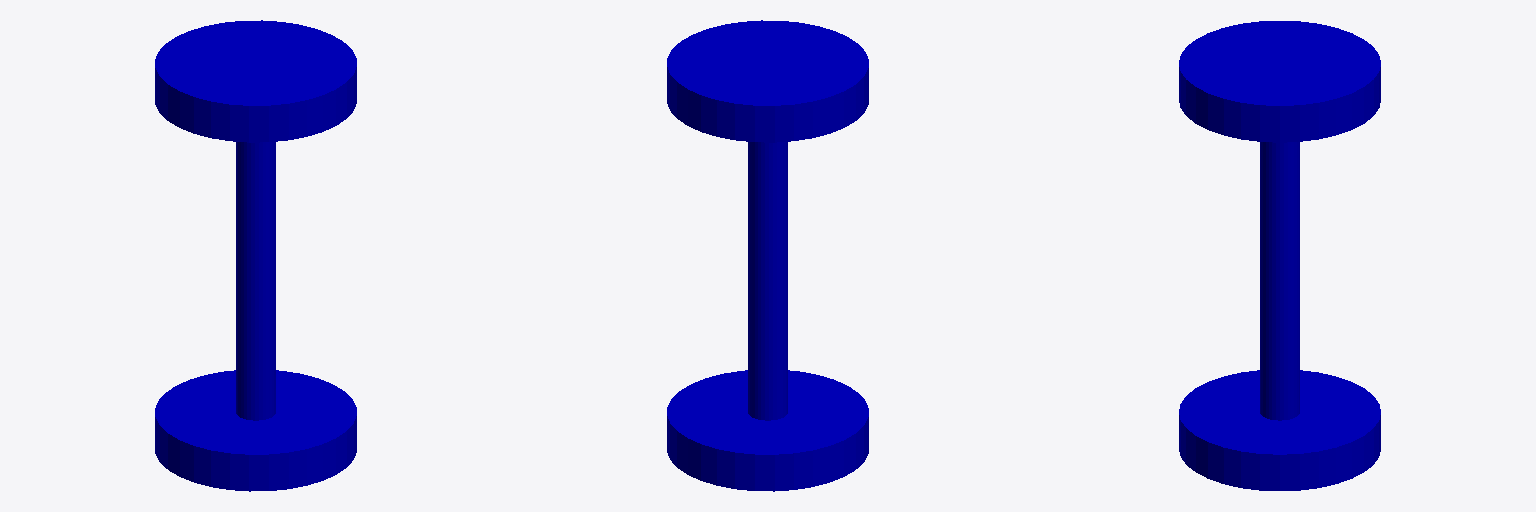
robot.urdf — physics:
<?xml version="1.0"?>
<robot name="physics">
  <link name="base_link">
    <visual>
      <geometry>
        <cylinder length="0.02" radius="0.05"/>
      </geometry>
      <material name="blue">
        <color rgba="0 0 .8 1"/>
      </material>
    </visual>
    <collision>
      <geometry>
        <cylinder length="0.02" radius="0.05"/>
      </geometry>
    </collision>
    <inertial>
      <mass value="0.01"/>
      <inertia ixx="0.000002" ixy="0.0" ixz="0.0" iyy="0.000002" iyz="0.0" izz="0.000002"/>
    </inertial>
  </link>

  <link name="grasp_cylinder">
    <visual>
      <geometry>
        <cylinder length="0.18" radius="0.01"/>
      </geometry>
      <material name="blue">
        <color rgba="0 0 .8 1"/>
      </material>
    </visual>
    <collision>
      <geometry>
        <cylinder length="0.12" radius="0.01"/>
      </geometry>
    </collision>
    <inertial>
      <mass value="0.01"/>
      <inertia ixx="0.000002" ixy="0.0" ixz="0.0" iyy="0.000002" iyz="0.0" izz="0.000002"/>
    </inertial>
  </link>

  <joint name="jfixed1" type="fixed">
    <parent link="base_link"/>
    <child link="grasp_cylinder"/>
    <origin xyz="0 0 0.09"/>
  </joint>


  <link name="top_cylinder">
    <visual>
      <geometry>
        <cylinder length="0.02" radius="0.05"/>
      </geometry>
      <material name="blue">
        <color rgba="0 0 .8 1"/>
      </material>
    </visual>
    <collision>
      <geometry>
        <cylinder length="0.02" radius="0.05"/>
      </geometry>
    </collision>
    <inertial>
      <mass value="0.01"/>
      <inertia ixx="0.000002" ixy="0.0" ixz="0.0" iyy="0.000002" iyz="0.0" izz="0.000002"/>
    </inertial>
  </link>

  <joint name="jfixed2" type="fixed">
    <parent link="grasp_cylinder"/>
    <child link="top_cylinder"/>
    <origin xyz="0 0 0.1"/>
  </joint>

  <link name="duck_stuff">
    <contact>
      <lateral_friction value="1.0"/>
      <rolling_friction value="0.0"/>
      <contact_cfm value="0.0"/>
      <contact_erp value="1.0"/>
    </contact>
    <inertial>
      <origin rpy="1.57 0 0" xyz="0.0 0.02 0.0"/>
       <mass value=".001"/>
       <inertia ixx="1e-9" ixy="0" ixz="0" iyy="1e-9" iyz="0" izz="1e-9"/>
    </inertial>
    <visual>
      <origin rpy="0 0 0" xyz="0 0 0"/>
      <geometry>
        <mesh filename="obj/Corona/Corona.obj" scale=".008 .008 .008"/>
      </geometry>
       <material name="yellow">
        <color rgba="1 1 0.14 1"/>
      </material>
    </visual>
    <collision>
      <origin rpy="1.57 0 0" xyz="0 0.02 0"/>
      <geometry>
	 	<mesh filename="obj/Corona/Corona.obj" scale=".00008 .00008 .00008"/>
      </geometry>
    </collision>
  </link>

    <joint name="jfixed_stuff" type="fixed">
    <parent link="top_cylinder"/>
    <child link="duck_stuff"/>
    <origin rpy="0 0 0" xyz="0 0 0"/>
  </joint>


</robot>

--- What the picture shows (computed from the rendered views, not written in the file) ---
Views: 3 orthographic renders of the robot side by side, from view 1: azimuth 30°, elevation 25°; view 2: azimuth 150°, elevation 25°; view 3: azimuth 270°, elevation 25°.
Model physics with 4 links and 3 joints (3 fixed), rooted at base_link, posed every joint at zero.
Visible links, largest first — view 1: top_cylinder, base_link, grasp_cylinder; view 2: top_cylinder, base_link, grasp_cylinder; view 3: top_cylinder, base_link, grasp_cylinder.
Boxes of the visible links, left/top/right/bottom form: top_cylinder: left=155, top=20, right=356, bottom=142; base_link: left=155, top=370, right=356, bottom=491; grasp_cylinder: left=236, top=142, right=275, bottom=420; top_cylinder: left=667, top=20, right=868, bottom=142; base_link: left=667, top=370, right=868, bottom=491; grasp_cylinder: left=748, top=142, right=787, bottom=420; top_cylinder: left=1179, top=21, right=1380, bottom=142; base_link: left=1179, top=370, right=1380, bottom=490; grasp_cylinder: left=1260, top=142, right=1299, bottom=420.
Size in the robot's own frame: 0.1 by 0.1 by 0.21 metres.
Meshes: 1 distinct files referenced, 0 mesh visuals loaded (none loaded); not drawn: 1 (reference not matched to a file when rendering).